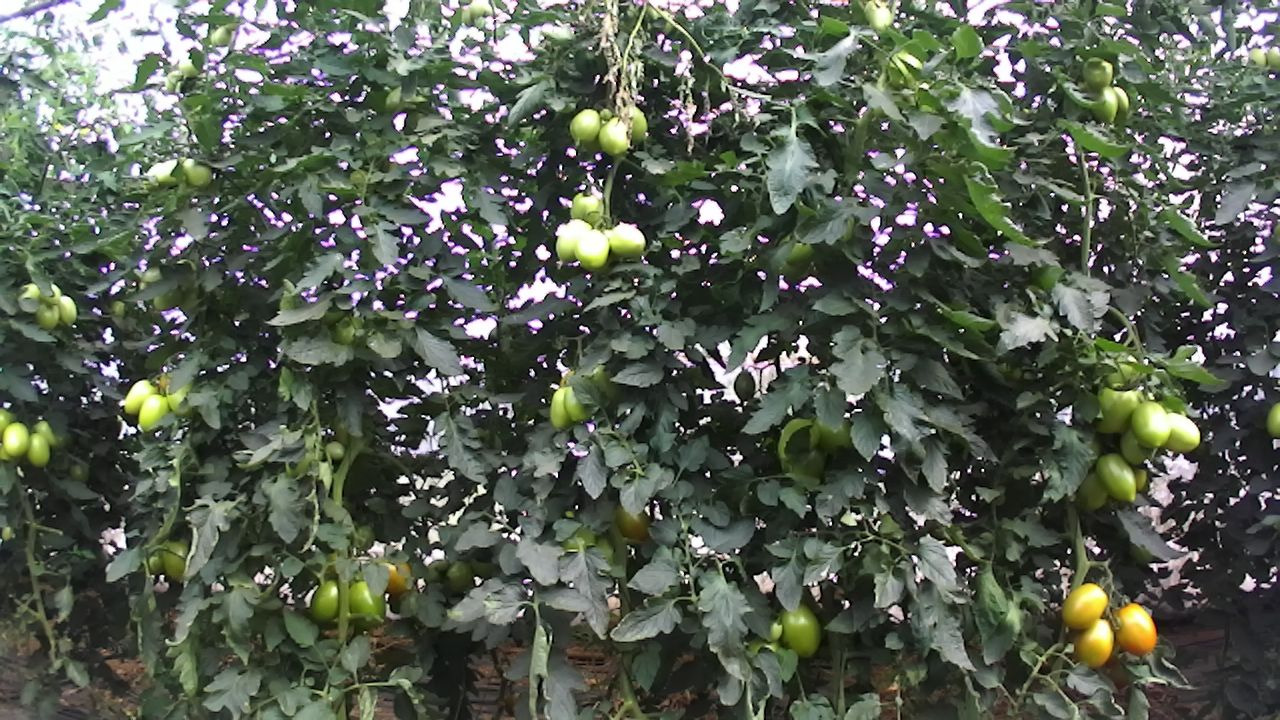tomato: (777, 598, 824, 661), (1056, 579, 1110, 631), (1109, 600, 1157, 657), (1094, 450, 1139, 505), (1130, 399, 1173, 449), (1073, 616, 1114, 668), (348, 578, 388, 630), (555, 218, 594, 266), (1162, 409, 1203, 454), (572, 227, 612, 271), (565, 188, 606, 230), (159, 535, 191, 583), (120, 376, 158, 416), (567, 105, 602, 148), (309, 577, 340, 625), (606, 223, 647, 259), (596, 115, 630, 157), (547, 383, 573, 434), (137, 392, 169, 432), (0, 418, 31, 459), (23, 430, 53, 472), (562, 384, 592, 424), (54, 292, 78, 328), (33, 301, 60, 331)
